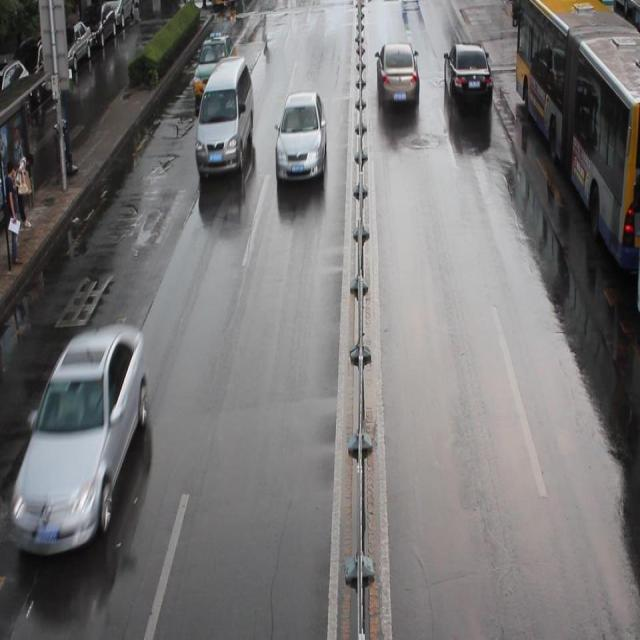car: (18, 323, 148, 558), (274, 94, 326, 182), (443, 42, 492, 112), (193, 33, 239, 100), (374, 41, 419, 107)
truck: (194, 57, 254, 175)
van: (515, 1, 640, 270)
